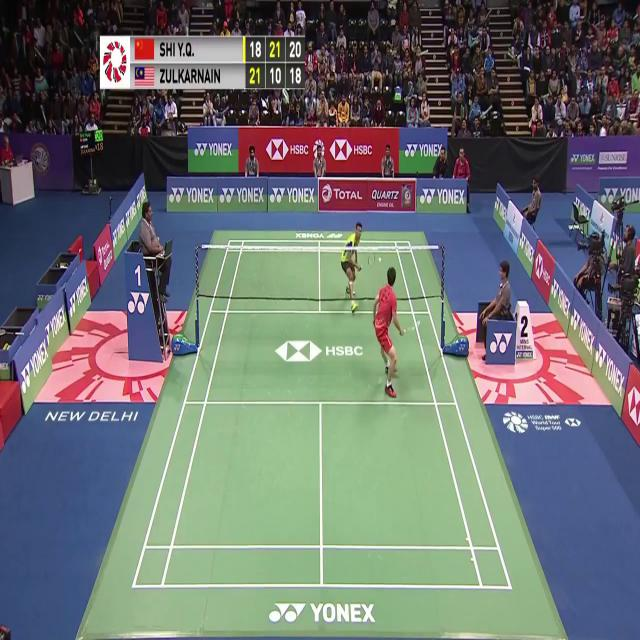Shuttlecock: (377, 252, 383, 264)
